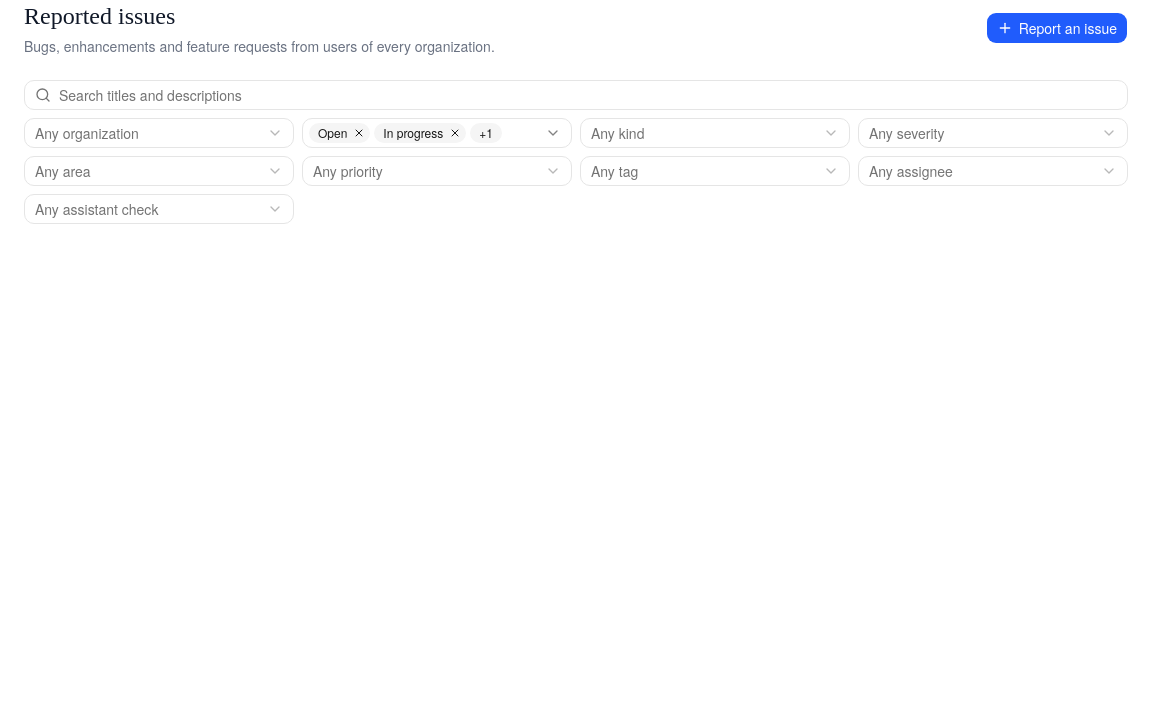
it: IssuesPage › offers Report an issue on the platform list
The image size is (1152, 720).
Click the button with test id "issues-report".
click(1057, 28)  # box [986, 12, 1128, 44]
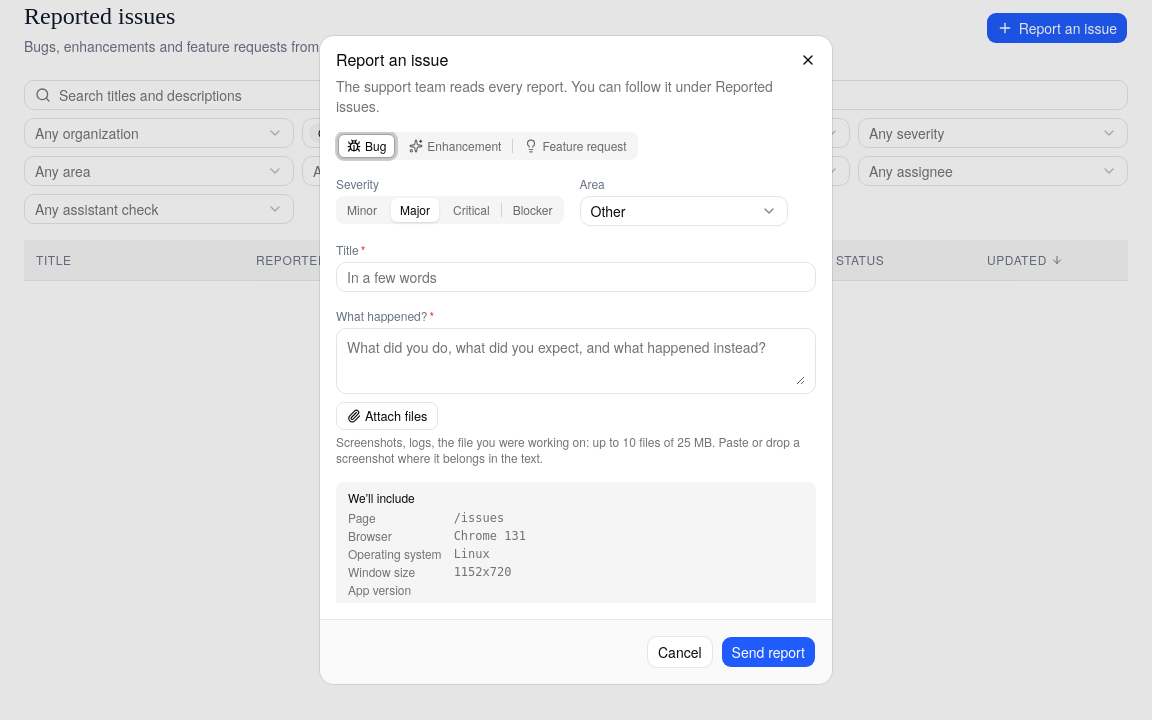
Check: the dialog is shown, box [320, 36, 832, 684]
